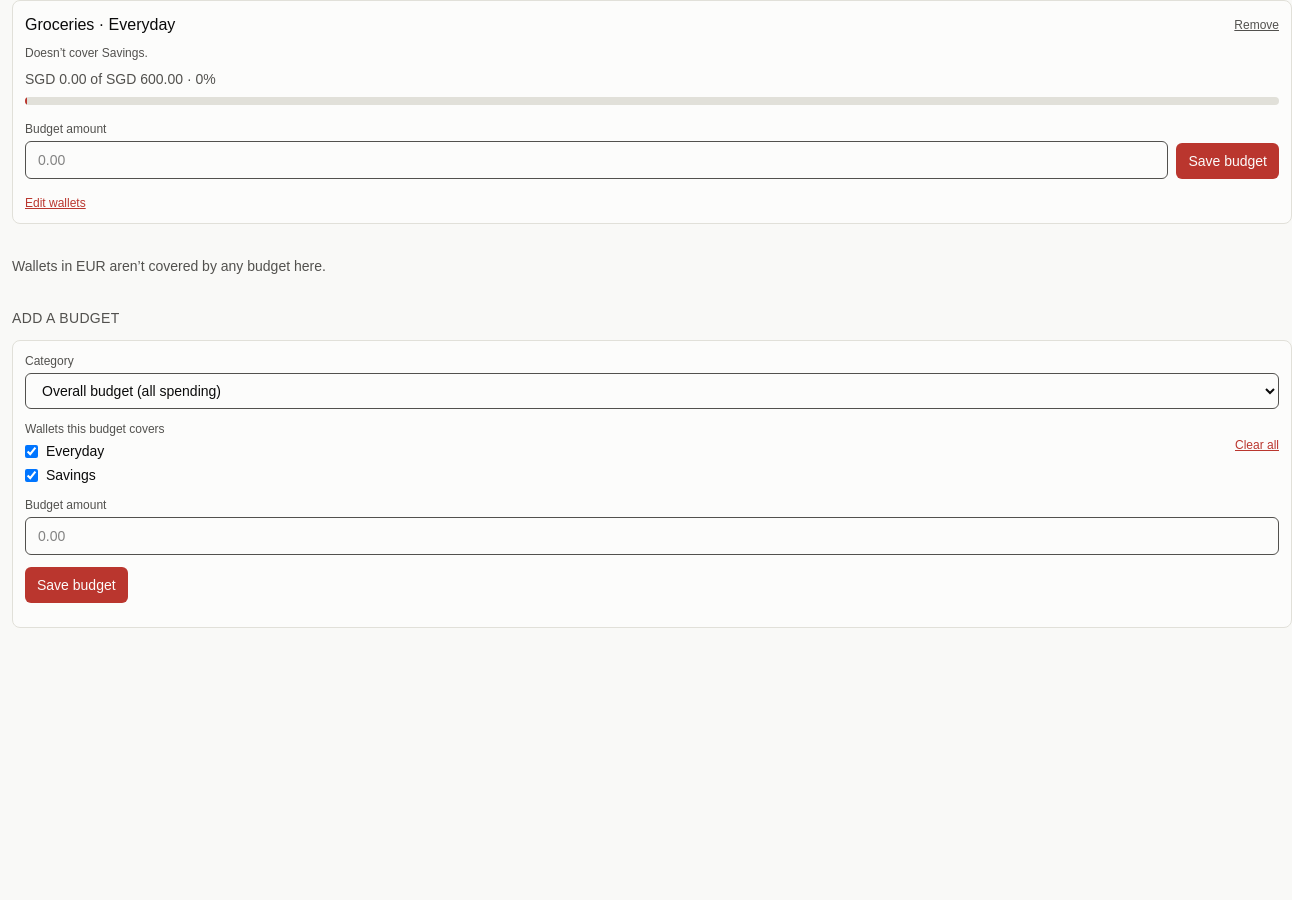
Test: BudgetList — editing an existing budget's wallet set › surfaces an update failure in the row's OWN wallets status region, named for that row
Step 1. Click the button with aria-label "Edit wallets for Groceries · Everyday" → (55, 203), box [25,195,86,211]
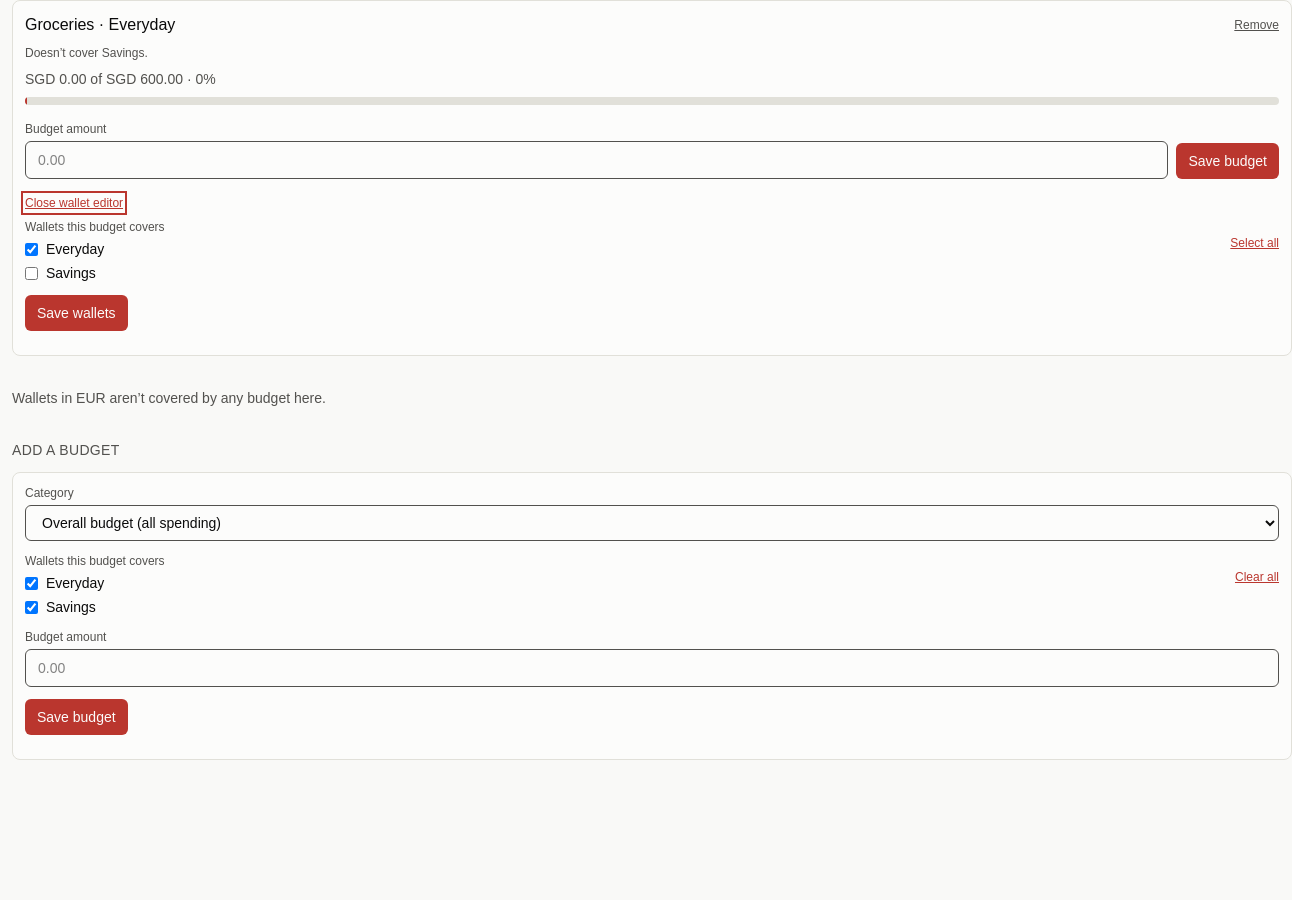
Step 2. Click the button "Save wallets" → (76, 313), box [25,295,128,331]
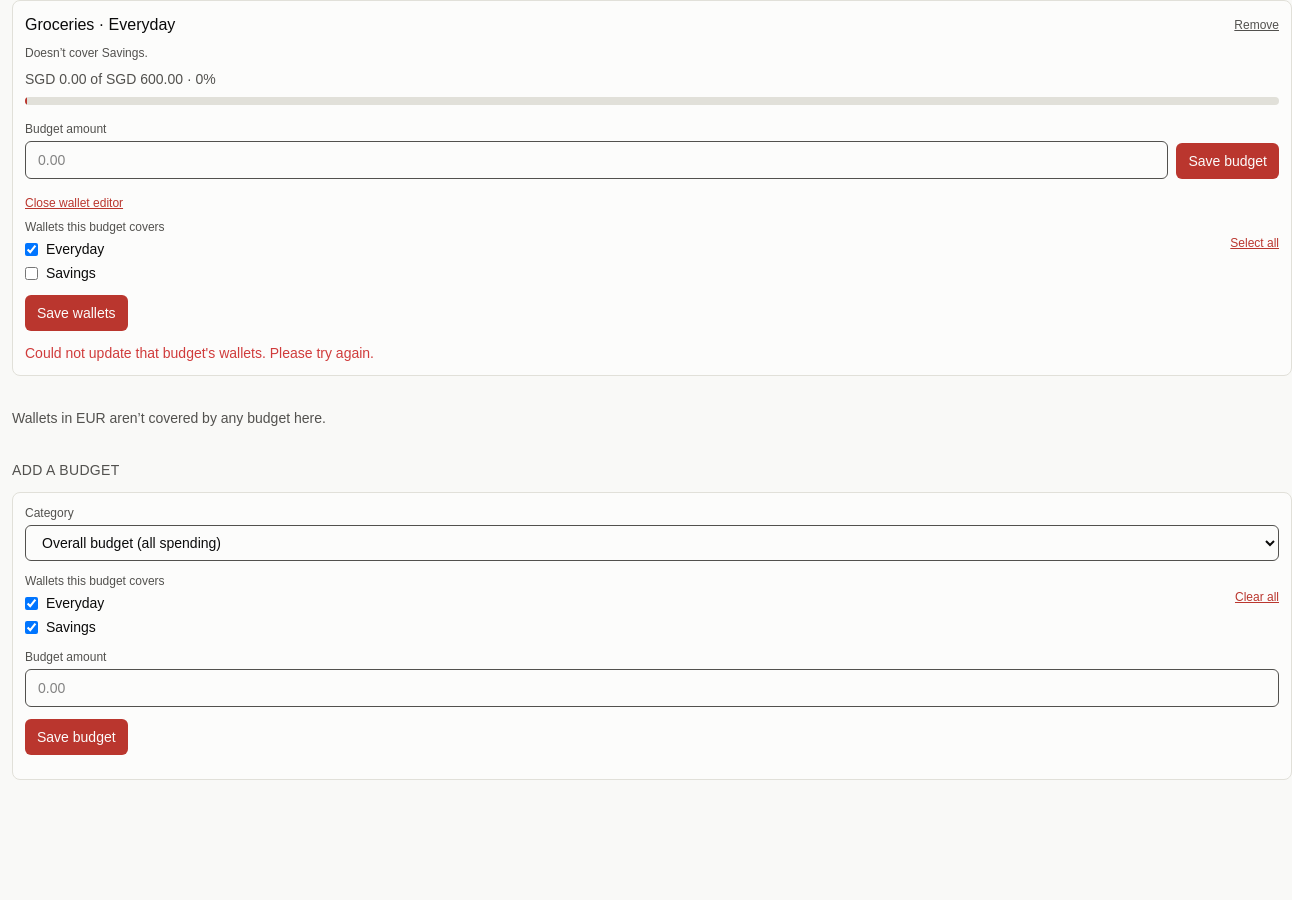
Expected: the message named "Wallets status for Groceries · Everyday" reads "Could not update that budget's wallets. Please try again.", [25,345,374,361]
